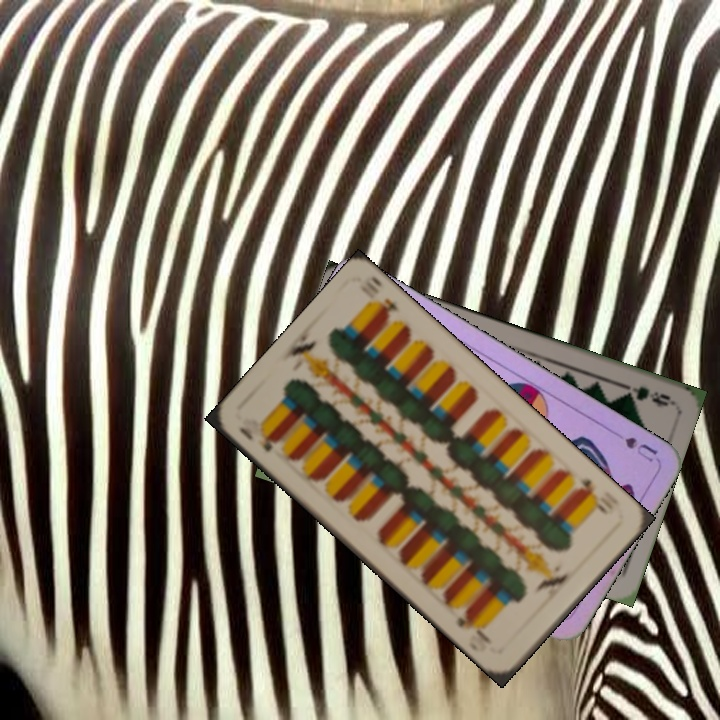E10: (571, 474, 611, 518), (235, 422, 281, 455)
G9: (618, 379, 676, 409)
SU: (620, 432, 660, 465)
